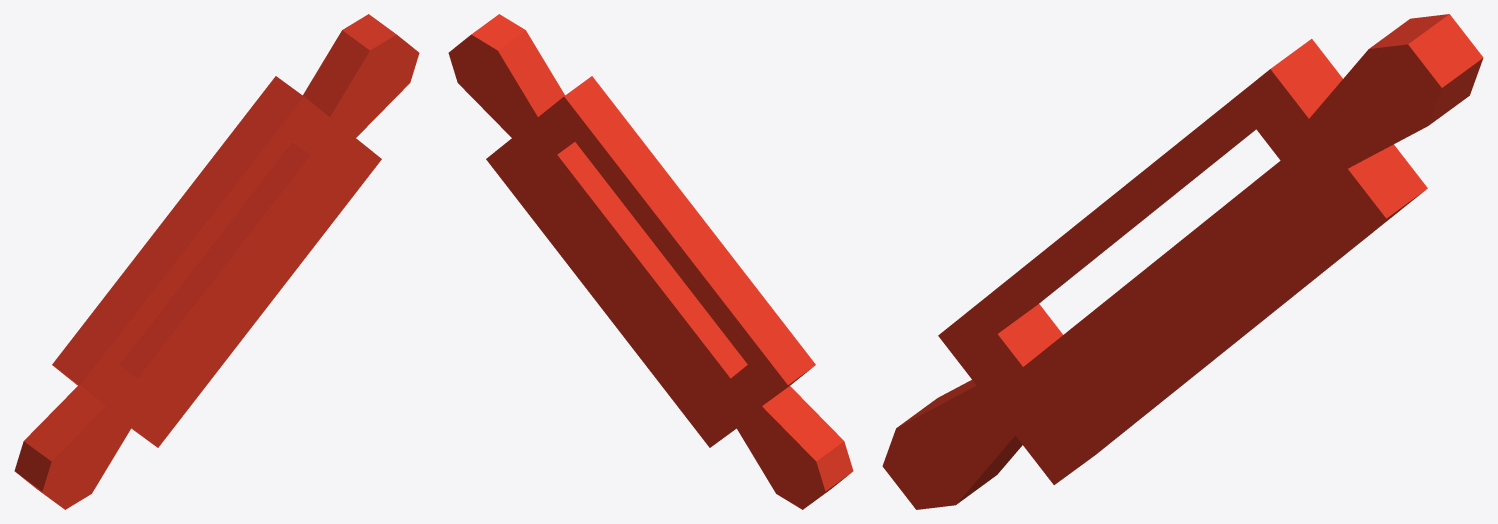
File: Icon_RollingPin.fbx
3 views of the same model, side by side, from view 1: azimuth 30°, elevation 25°; view 2: azimuth 150°, elevation 25°; view 3: azimuth 330°, elevation 25° (orthographic). The views are drawn at different scales.
Visible parts, largest first — view 1: Icon_RollingPin; view 2: Icon_RollingPin; view 3: Icon_RollingPin.
Boxes of the visible parts, x1,y1,x2,y2 form: Icon_RollingPin: (14, 14, 419, 509); Icon_RollingPin: (448, 14, 853, 509); Icon_RollingPin: (882, 14, 1483, 509).
Size of the model in its own units: 76.76 by 76.76 by 9.87.
